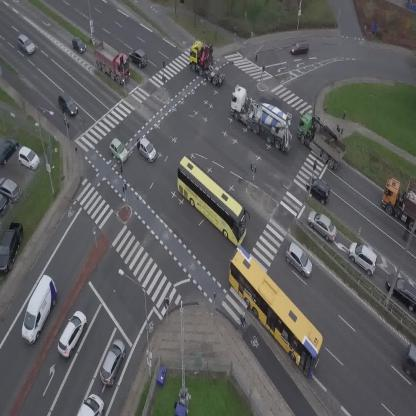bicycle: (236, 314, 247, 334)
bus: (211, 244, 336, 377), (163, 154, 260, 247)
car: (52, 308, 91, 359), (96, 337, 130, 387), (343, 238, 385, 277), (302, 206, 342, 244), (280, 241, 319, 279), (300, 172, 336, 206), (105, 136, 132, 164), (54, 91, 81, 118), (134, 137, 161, 163), (126, 45, 151, 69), (13, 32, 37, 57), (67, 34, 89, 56), (403, 344, 416, 379), (291, 40, 309, 54)
lorry: (219, 82, 306, 155), (288, 108, 354, 172), (13, 273, 64, 346), (85, 36, 139, 87), (182, 34, 228, 92), (382, 177, 416, 231), (77, 394, 104, 416)
